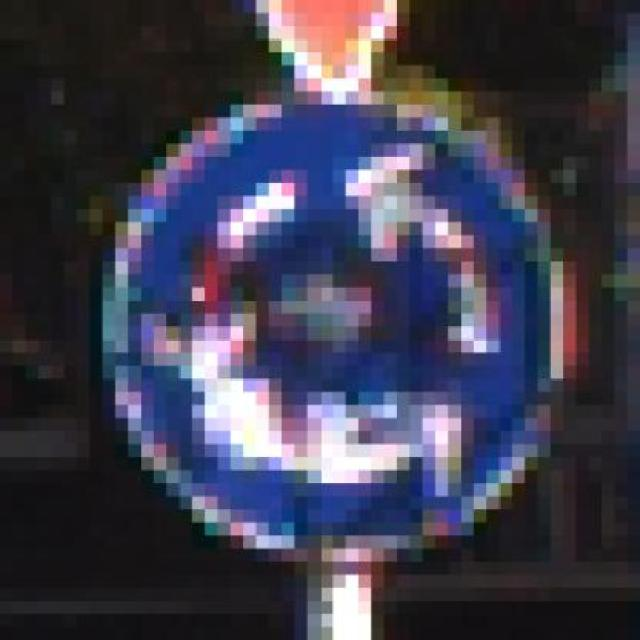Round-About: (38, 78, 628, 574)
